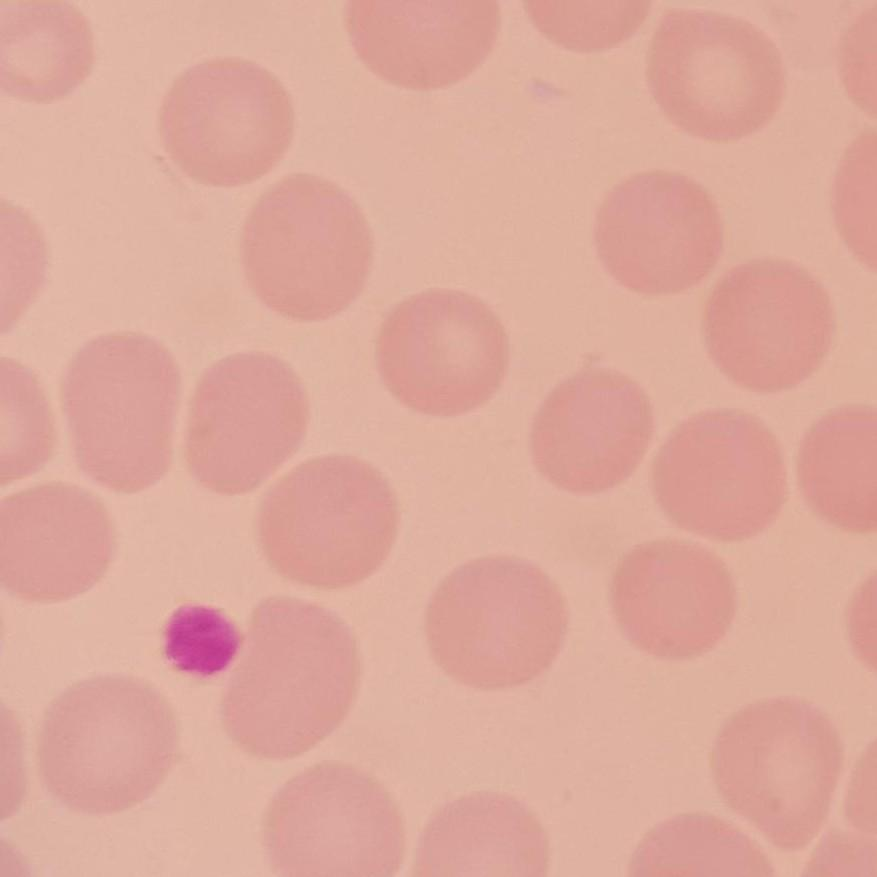Uninfected: (708, 691, 847, 845), (426, 549, 575, 692), (646, 405, 790, 544), (244, 171, 369, 330), (58, 331, 183, 490), (232, 593, 349, 759), (40, 669, 175, 811), (254, 455, 398, 588), (706, 257, 837, 397), (646, 9, 779, 146), (158, 57, 294, 190), (188, 349, 311, 496), (378, 285, 509, 417), (590, 165, 718, 298), (614, 535, 741, 662), (266, 759, 402, 877), (528, 367, 646, 496), (2, 481, 113, 602)
